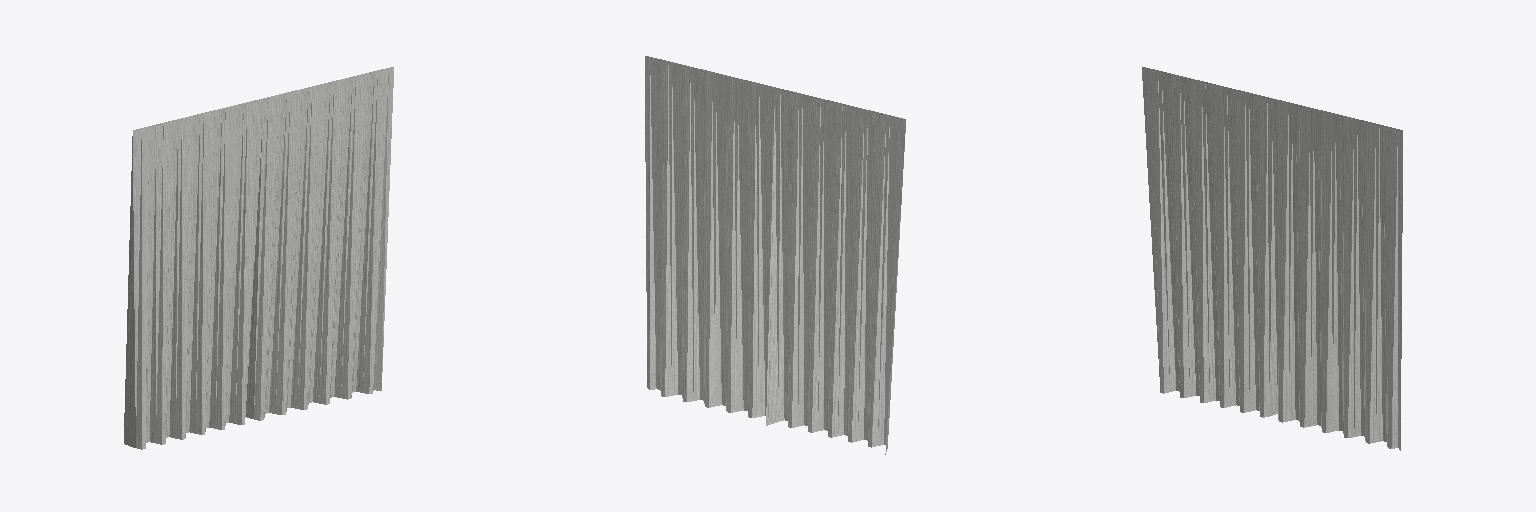
3 views of the same model, side by side, from view 1: azimuth 30°, elevation 25°; view 2: azimuth 150°, elevation 25°; view 3: azimuth 330°, elevation 25° (orthographic).
Visible parts, largest first — view 1: Cortina1:pasted__CORTINA_MOVIBLE; view 2: Cortina1:pasted__CORTINA_MOVIBLE; view 3: Cortina1:pasted__CORTINA_MOVIBLE.
Part boxes in pixels (x1,y1,x2,y2): Cortina1:pasted__CORTINA_MOVIBLE: (124, 67, 393, 449); Cortina1:pasted__CORTINA_MOVIBLE: (645, 56, 905, 454); Cortina1:pasted__CORTINA_MOVIBLE: (1142, 67, 1402, 450).
Size of the model in its own units: 1.91 by 2.27 by 0.1893.
Materials: 1 (1 with a texture image).